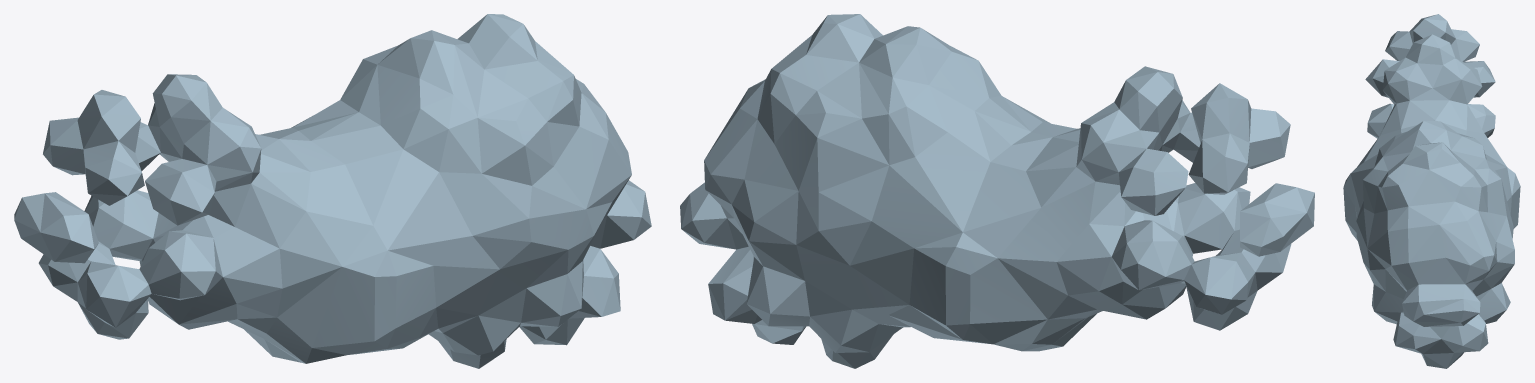
Rendered from stylize_cloud_2.fbx.
The picture shows the model from 3 angles, left to right: view 1: azimuth 30°, elevation 25°; view 2: azimuth 150°, elevation 25°; view 3: azimuth 270°, elevation 25°; orthographic projection. The views are drawn at different scales.
Visible parts, largest first — view 1: cloud_82; view 2: cloud_82; view 3: cloud_82.
Boxes of the visible parts, x1=… form: cloud_82: x1=14, y1=14, x2=651, y2=368; cloud_82: x1=680, y1=14, x2=1314, y2=368; cloud_82: x1=1343, y1=14, x2=1520, y2=368.
Bounding box in the file's own units: 559 × 320 × 233.
